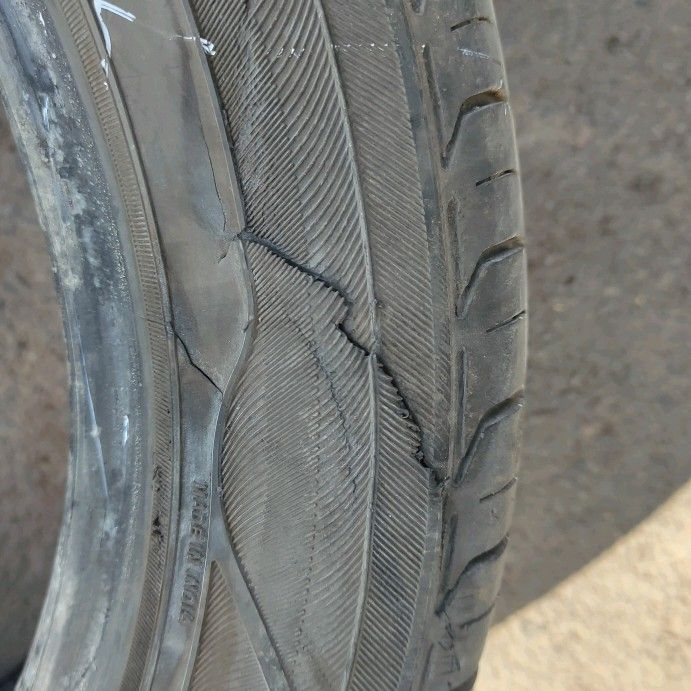cut: (197, 210, 449, 538)
